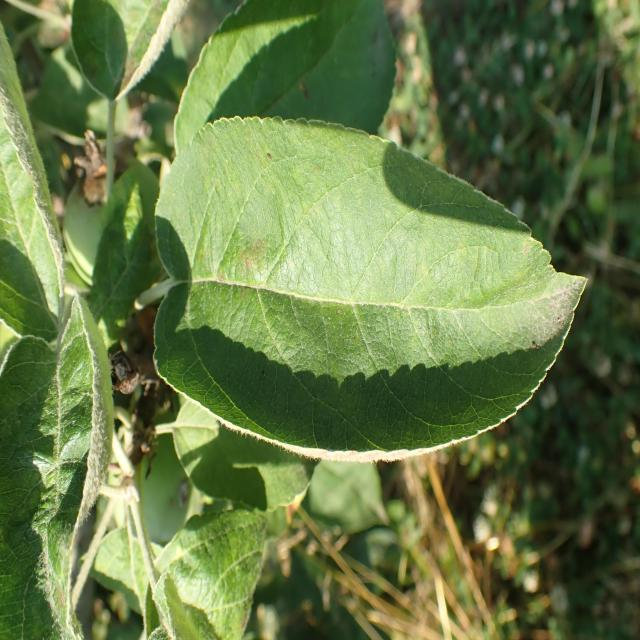scab: (136, 130, 545, 422)
